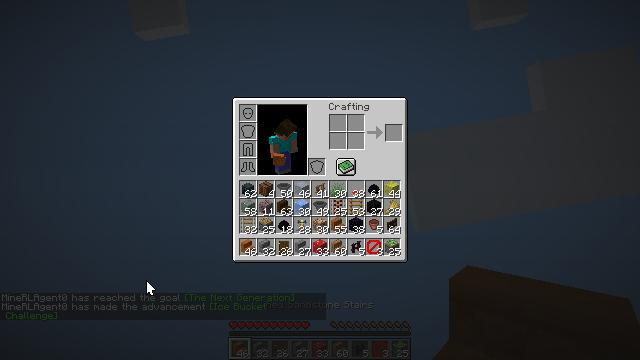cursor: (146, 280, 156, 296)
